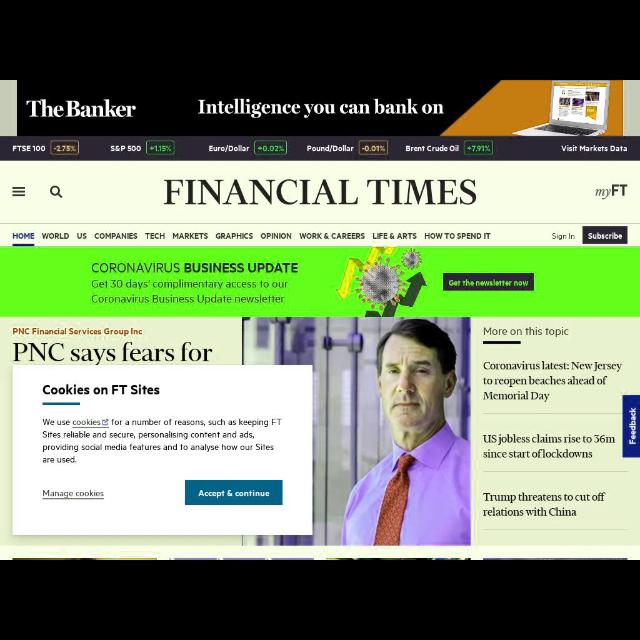icon: (10, 184, 28, 198), (48, 186, 62, 198)
iframe: (1, 247, 639, 317), (18, 82, 624, 136)
multitab: (2, 137, 640, 161), (1, 224, 639, 246)
text: (42, 418, 284, 462), (165, 178, 478, 208), (482, 360, 622, 400), (15, 342, 212, 363), (482, 433, 616, 463), (483, 491, 607, 517), (42, 382, 160, 398), (12, 328, 144, 336), (482, 326, 570, 338), (42, 490, 104, 502), (558, 144, 628, 154), (197, 490, 270, 498), (424, 233, 492, 241), (299, 232, 365, 240), (371, 231, 417, 241), (596, 184, 626, 198), (628, 407, 638, 447), (306, 144, 354, 152), (9, 144, 45, 154), (587, 231, 623, 241), (93, 232, 137, 240), (406, 146, 460, 152), (109, 144, 141, 154), (209, 145, 249, 153), (216, 232, 254, 240), (172, 232, 208, 240), (260, 232, 292, 240), (12, 231, 34, 241), (257, 144, 283, 152), (466, 144, 492, 152), (42, 232, 68, 240), (550, 232, 576, 240), (148, 144, 172, 152), (54, 144, 74, 152), (144, 232, 164, 240), (362, 146, 384, 152), (76, 232, 86, 240)
textbutton: (186, 480, 282, 506), (584, 228, 628, 245)
toolbar: (1, 160, 639, 224)
